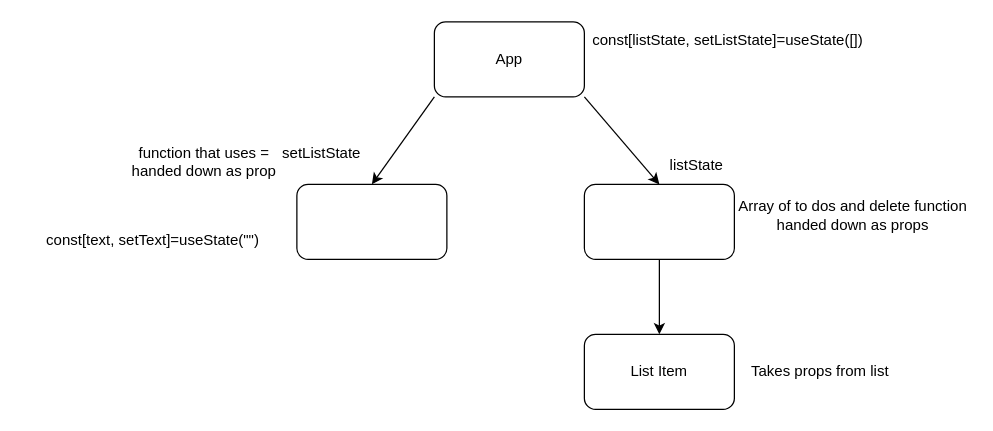
This 993x431 diagram has some shape labels left out. Here are the shapes that lost their labels. From the top down, the box of each, then its label:
(296, 183, 447, 259): Input
(583, 183, 734, 259): List
